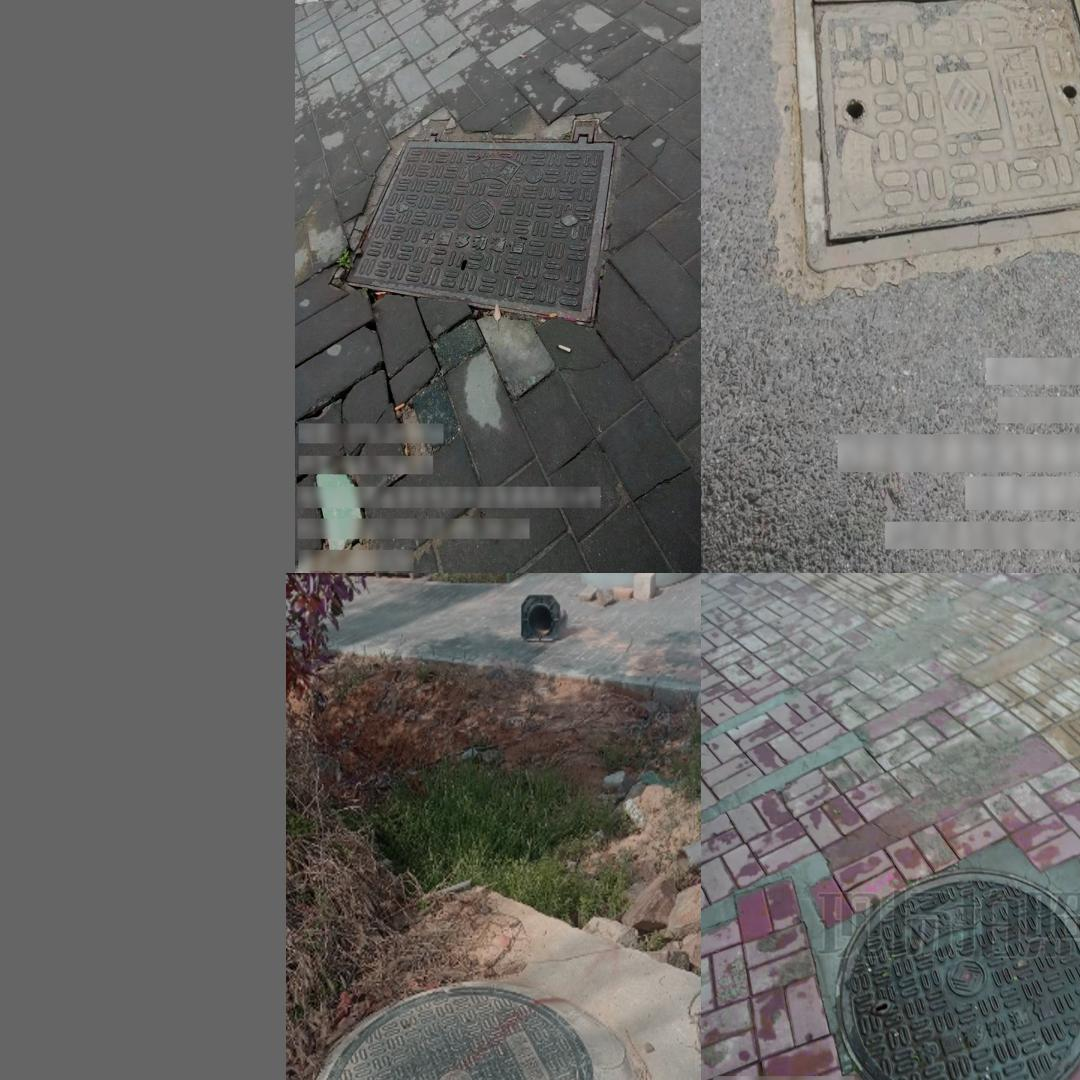good: (787, 0, 1080, 274), (343, 122, 617, 327), (835, 869, 1080, 1080), (317, 983, 593, 1080)
